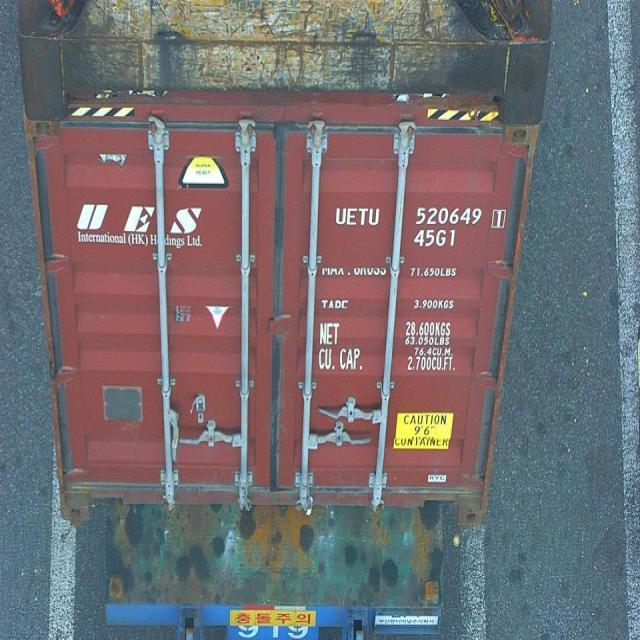ISO: (416, 226, 456, 252)
container_number: (332, 202, 498, 229)
